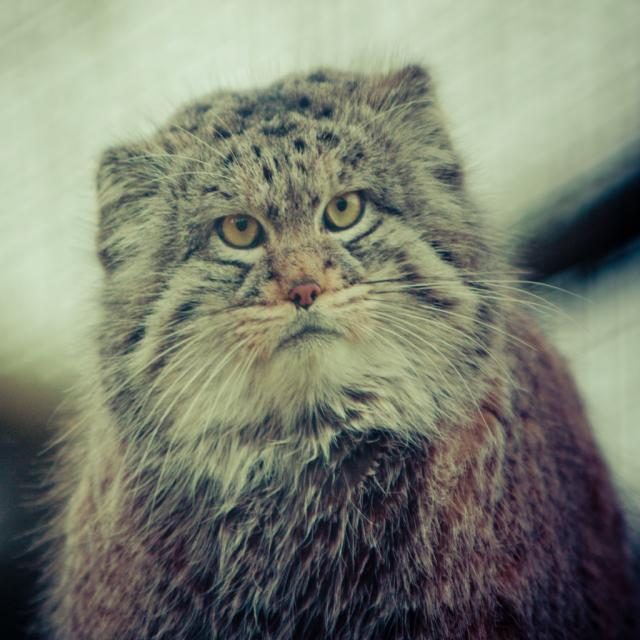Cat: (7, 59, 638, 638)
